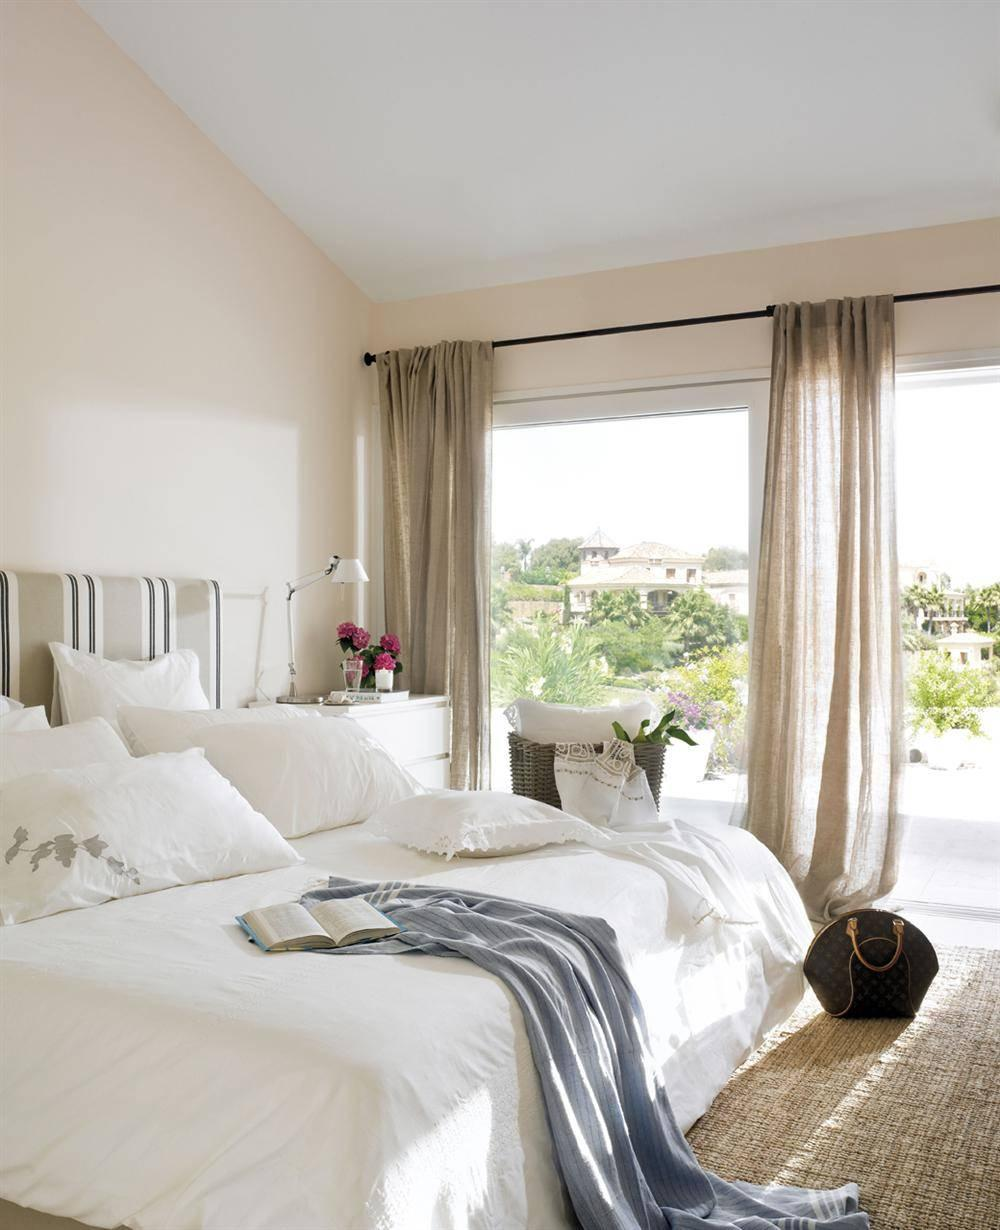bed: (45, 605, 643, 1142)
